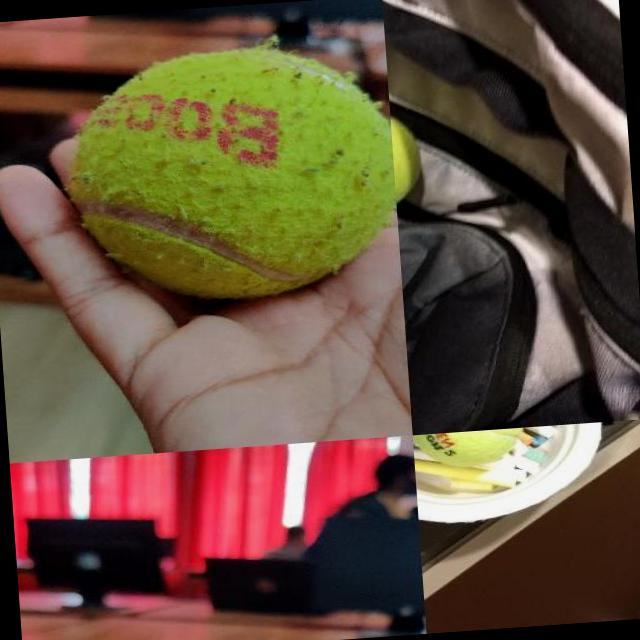Tennis Ball: (59, 39, 402, 309), (414, 427, 527, 471)
